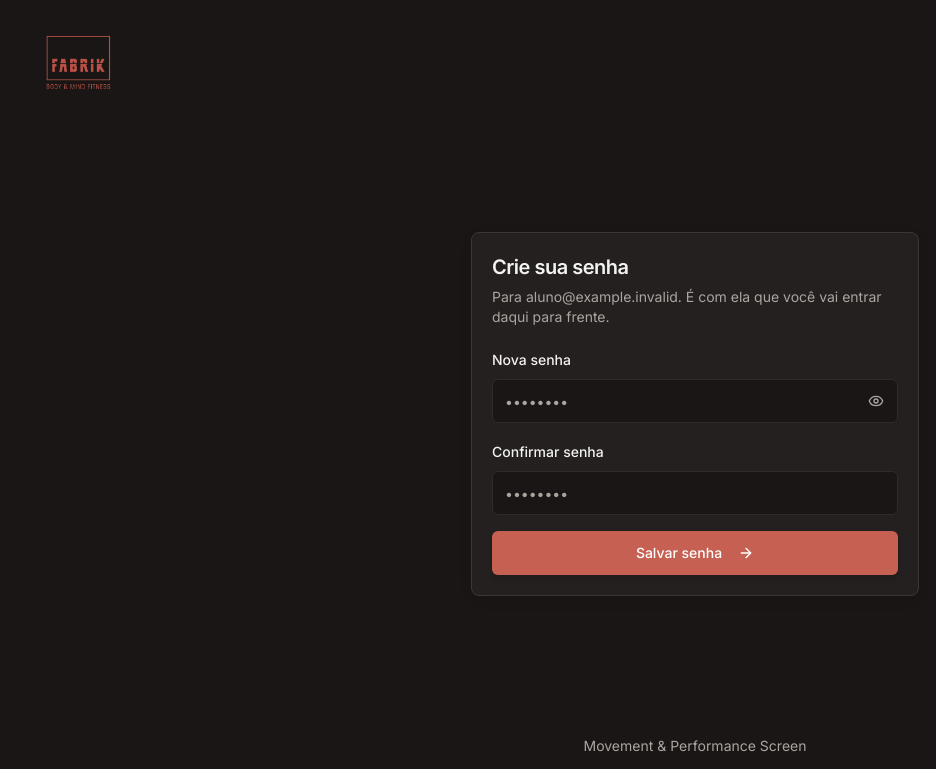
SetPassword › salva a senha e vai para o painel
Expected: the text "Para aluno@example.invalid" is shown, top-left (492, 287), bottom-right (898, 327)
Type "senha-forte-1" into the password field labelled "Nova senha" at (695, 401), box top-left (492, 379), bottom-right (898, 423)
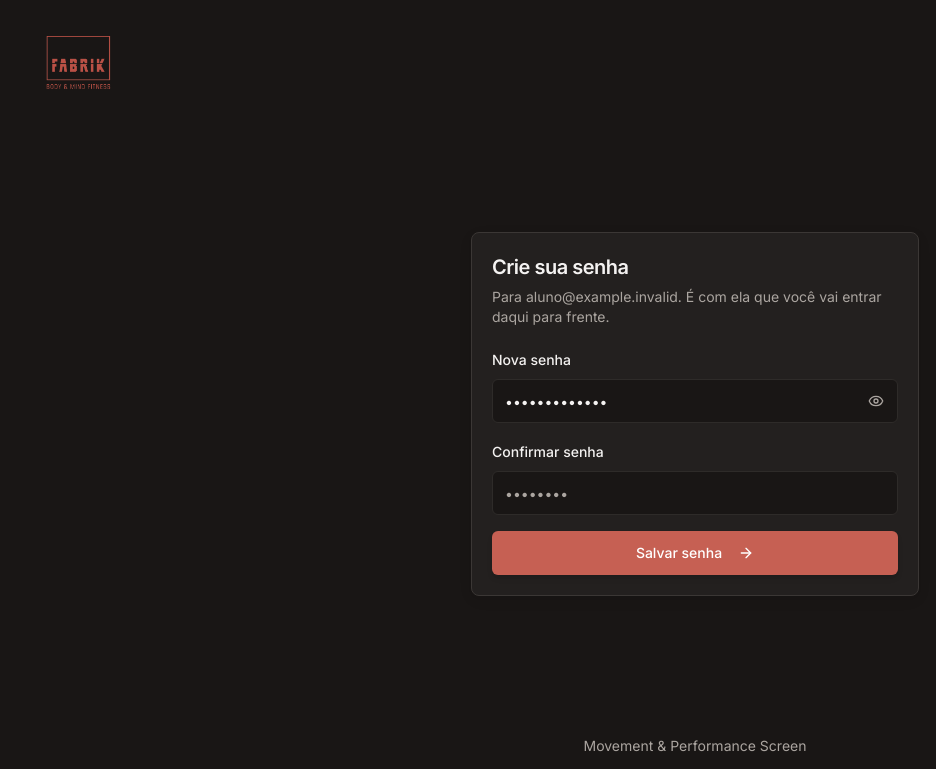
Type "senha-forte-1" into the password field labelled "Confirmar senha" at (695, 493), box top-left (492, 471), bottom-right (898, 515)
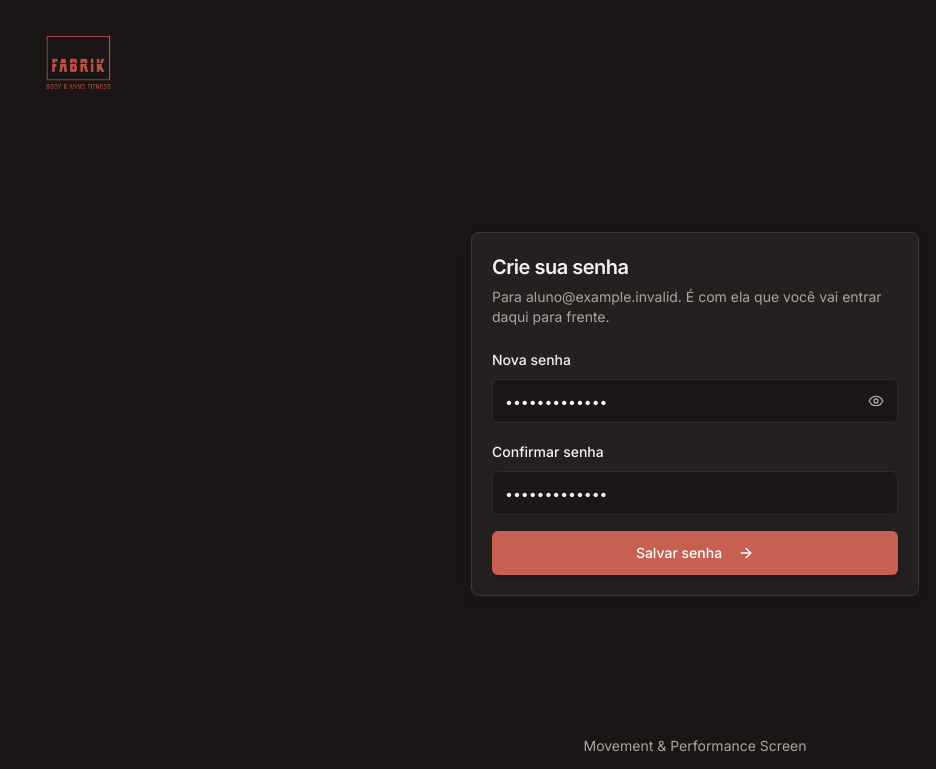
Click the button "Salvar senha" at (695, 553), box top-left (492, 531), bottom-right (898, 575)
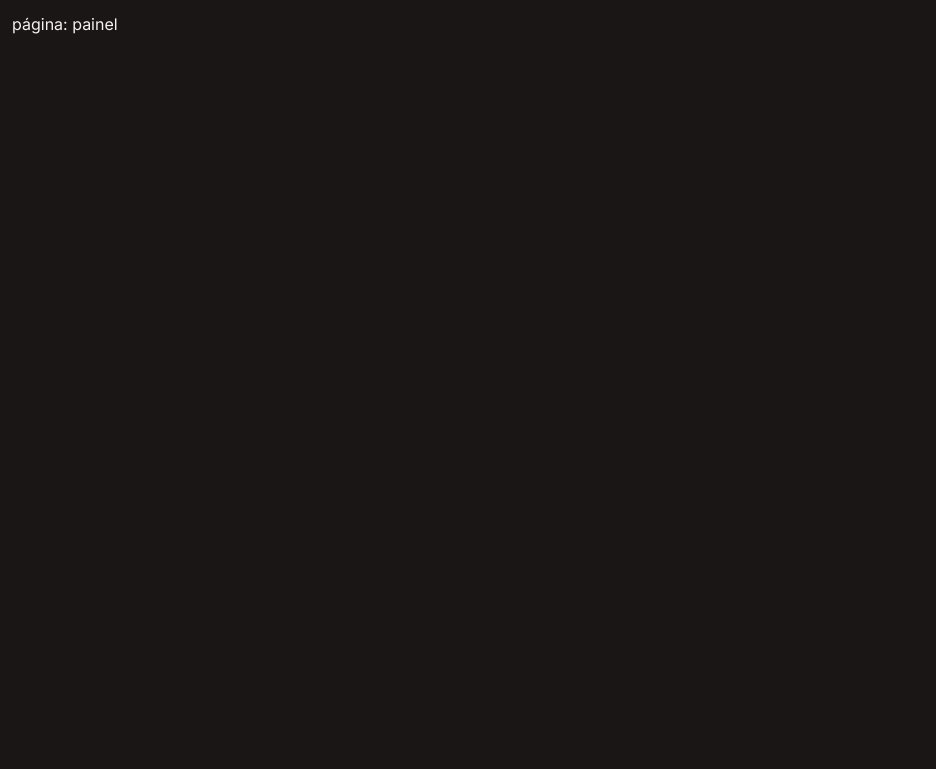
Result: the text "página: painel" is shown at top-left (12, 14), bottom-right (118, 34)
